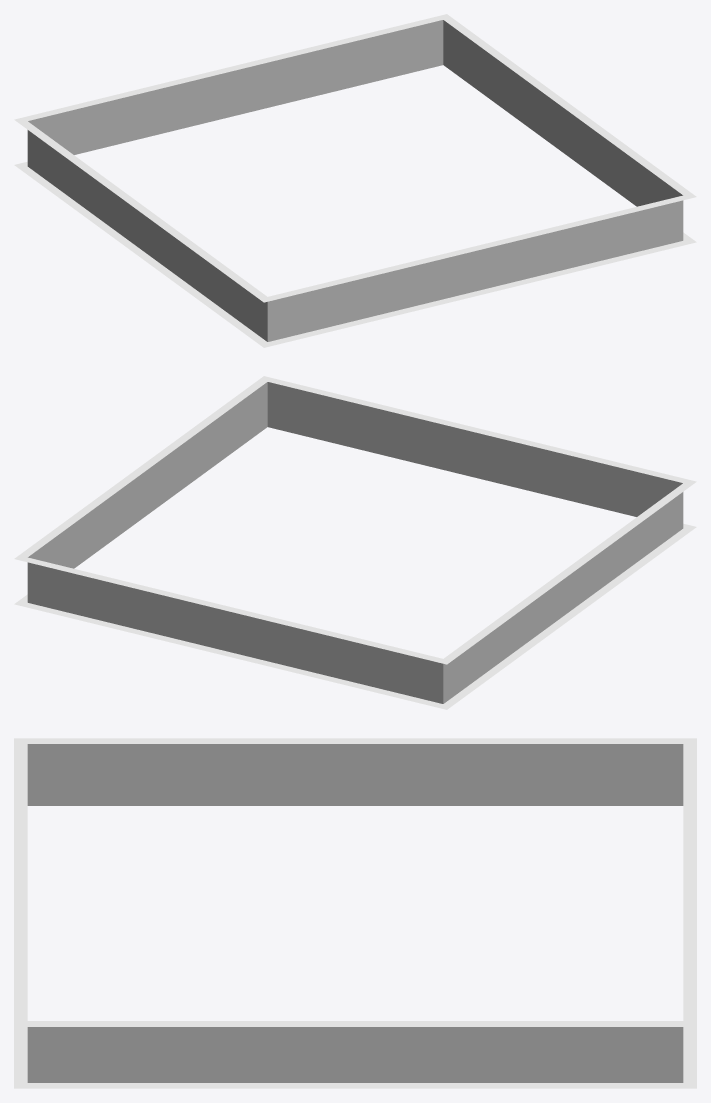
File: Elevator-Shafter-Connect.obj
3 renders of one model, top to bottom at view 1: azimuth 30°, elevation 25°; view 2: azimuth 150°, elevation 25°; view 3: azimuth 270°, elevation 25°, orthographic. The views are drawn at different scales.
Visible parts, largest first — view 1: Elevator-Shafter-Connect; view 2: Elevator-Shafter-Connect; view 3: Elevator-Shafter-Connect.
Boxes of the visible parts, box(x1,y1,x2,y2) form: Elevator-Shafter-Connect: box(14, 14, 696, 347); Elevator-Shafter-Connect: box(14, 376, 696, 709); Elevator-Shafter-Connect: box(14, 738, 696, 1088).
Size of the model in its own units: 5 by 0.5 by 5.
